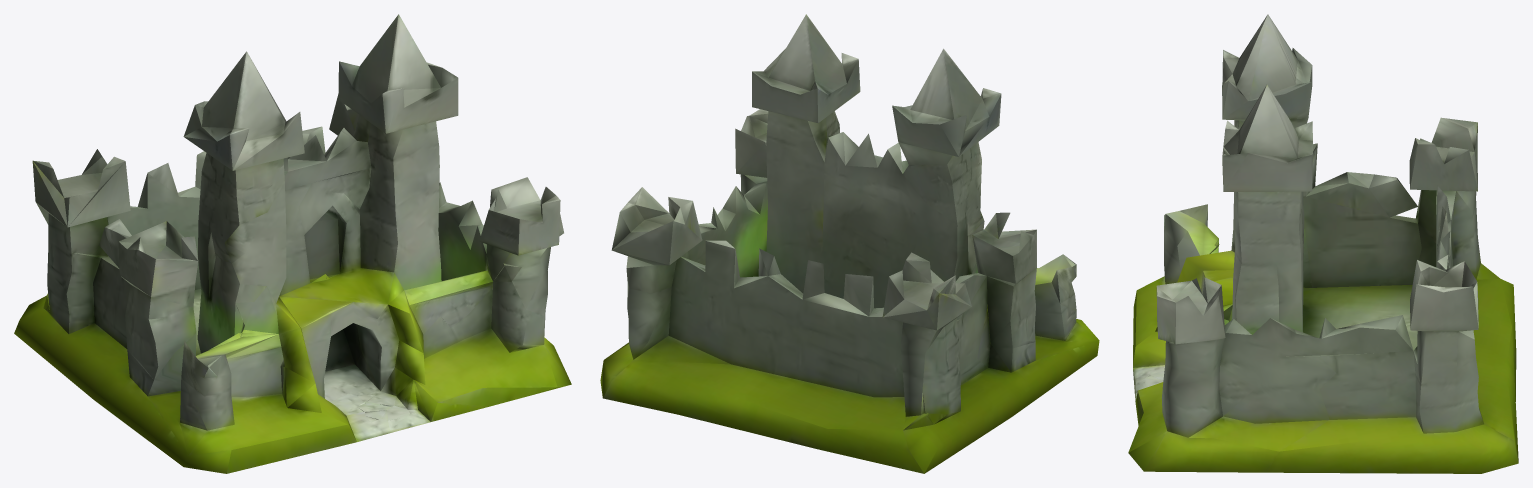
The model's file is aquariumCastle.glb.
3 renders of one model, left to right at view 1: azimuth 30°, elevation 25°; view 2: azimuth 150°, elevation 25°; view 3: azimuth 270°, elevation 25°, orthographic. The views are drawn at different scales.
Parts seen in each view (by area): view 1: model; view 2: model; view 3: model.
Part boxes in pixels (x1,y1,x2,y2): model: (14, 14, 571, 473); model: (600, 14, 1099, 473); model: (1128, 14, 1518, 473).
Bounding box in the file's own units: 1.89 × 1.64 × 1.73.
Materials: 1 (1 with a texture image).
